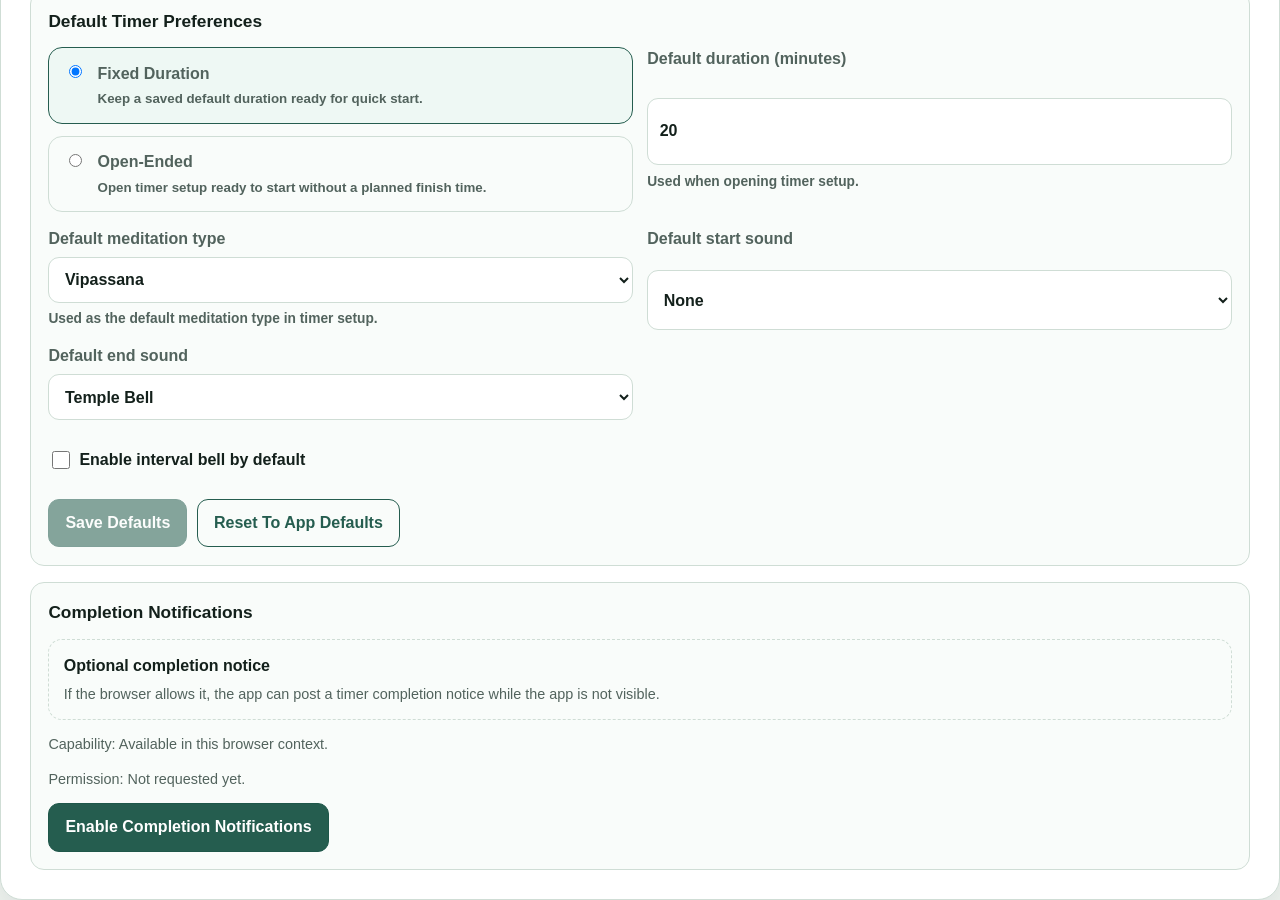
Test: SettingsPage UX › shows notification capability and enables permission on demand
(page scrolled)
Check: the number field labelled "Default duration (minutes) Used when opening timer setup." is enabled, box x1=647 y1=98 x2=1232 y2=165
Check: the text "Capability: Available in this browser context." is shown, box x1=48 y1=736 x2=328 y2=752
Click the button "Enable Completion Notifications" at point(188, 827), box x1=48 y1=803 x2=329 y2=852
(page scrolled)
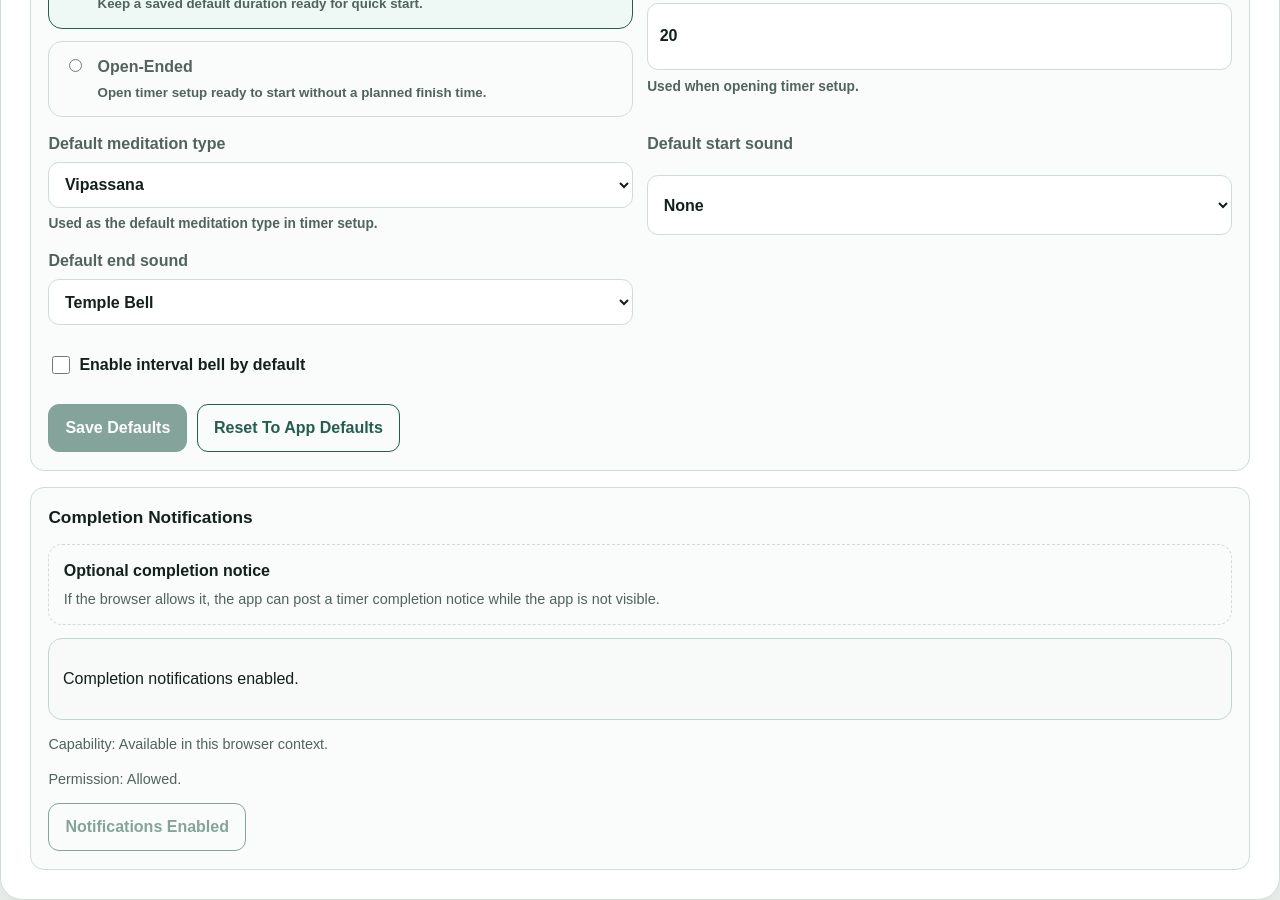
Check: the text "Completion notifications enabled." is shown, box x1=63 y1=670 x2=299 y2=687
Check: the text "Permission: Allowed." is shown, box x1=48 y1=771 x2=181 y2=787
Check: the button "Notifications Enabled" is disabled, box x1=48 y1=803 x2=246 y2=851
